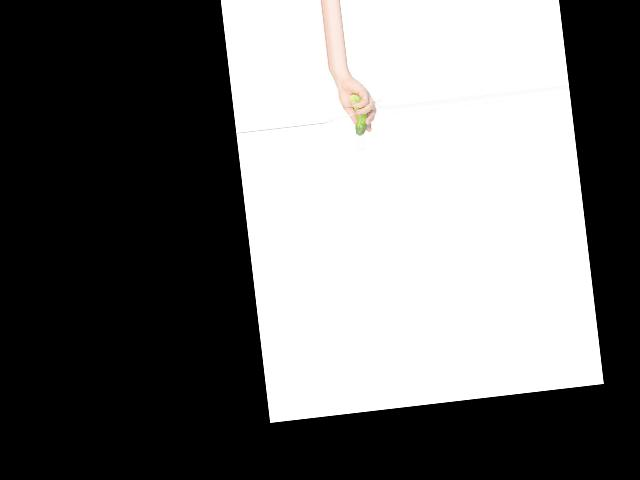cucumber: (350, 92, 369, 136)
